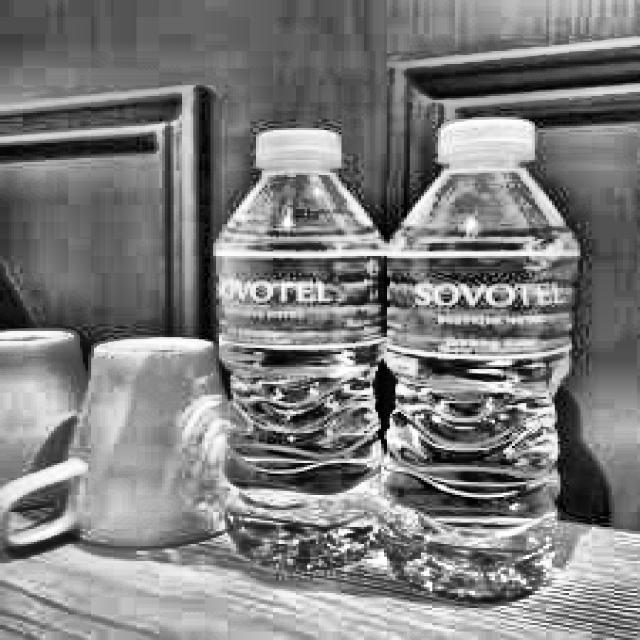waterbottle: (363, 110, 585, 609), (205, 116, 405, 584)
